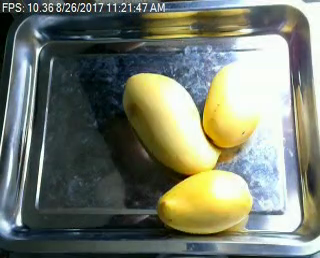Mango: (123, 74, 219, 173), (159, 170, 253, 234), (203, 61, 268, 148)
